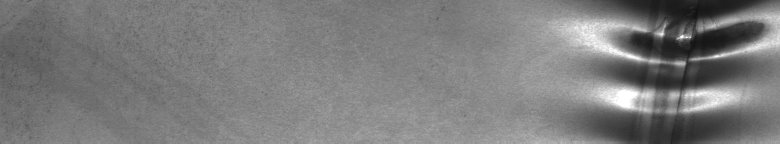ke: (610, 4, 765, 120)
